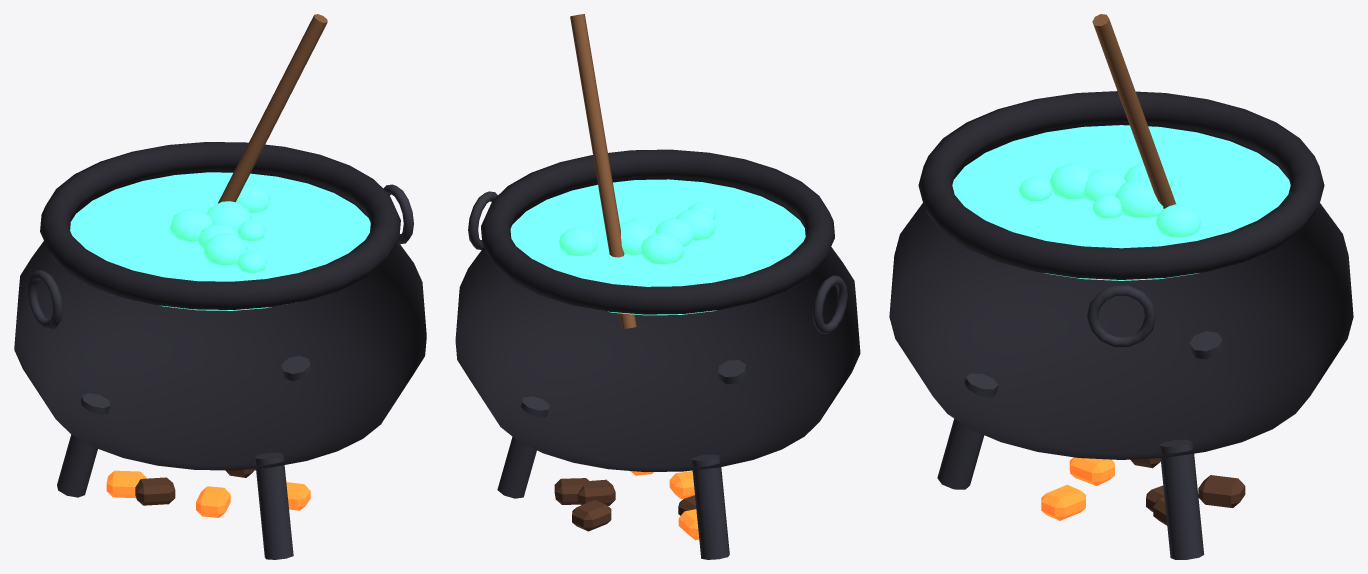
Rendered from magic_cauldron.glb.
3 views of the same model, side by side, from view 1: azimuth 30°, elevation 25°; view 2: azimuth 150°, elevation 25°; view 3: azimuth 270°, elevation 25° (orthographic). The views are drawn at different scales.
Parts seen in each view (by area): view 1: magic_cauldron; view 2: magic_cauldron; view 3: magic_cauldron.
Part boxes in pixels (x1,y1,x2,y2): magic_cauldron: (14, 14, 426, 559); magic_cauldron: (455, 14, 860, 559); magic_cauldron: (889, 14, 1353, 559).
Size of the model in its own units: 0.9608 by 1.2 by 0.96.
